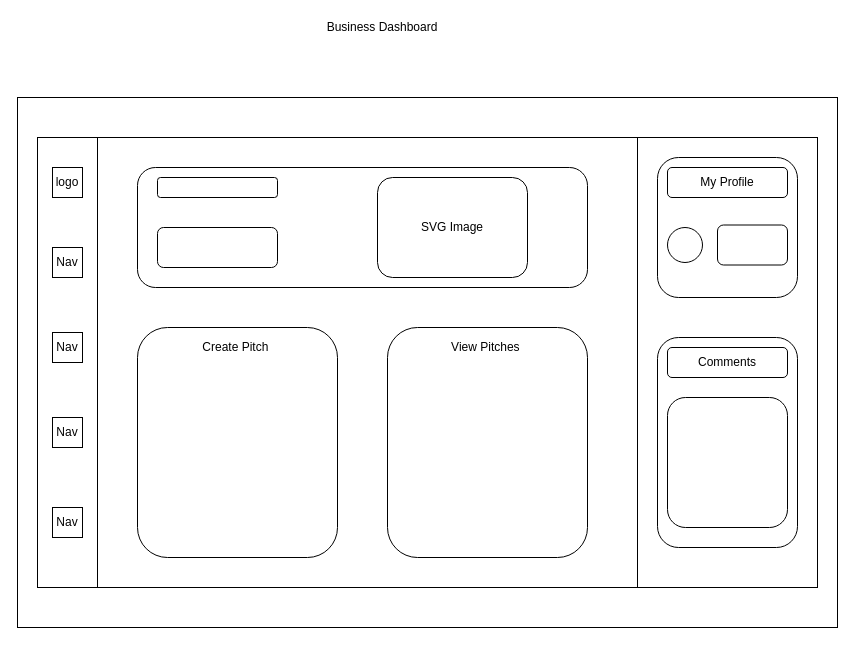
This 855x645 diagram has some shape labels left out. The shapes that lost their labels are listed below. From the top down, each one's centre as x and y in pixels, then its label:
At [217,187]: "Date".
At [217,247]: "Welcome, Luke".
At [684,244]: "Pic".
At [752,244]: "Info".
At [727,462]: "Actual Comments".
